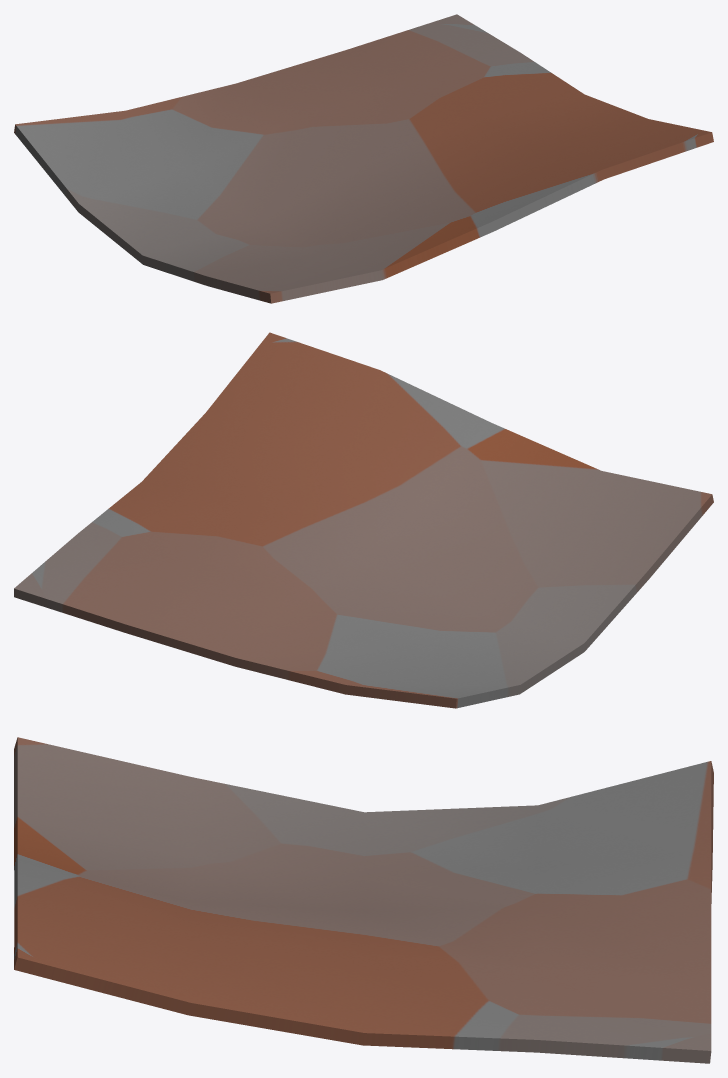
Rendered from MetalOxidado5.fbx.
The picture shows the model from 3 angles, top to bottom: view 1: azimuth 30°, elevation 25°; view 2: azimuth 150°, elevation 25°; view 3: azimuth 270°, elevation 25°; orthographic projection. The views are drawn at different scales.
Parts seen in each view (by area): view 1: Metal oxidado.004; view 2: Metal oxidado.004; view 3: Metal oxidado.004.
Boxes of the visible parts, box(x1,y1,x2,y2) form: Metal oxidado.004: box(14, 14, 713, 303); Metal oxidado.004: box(14, 332, 713, 708); Metal oxidado.004: box(14, 737, 713, 1063).
Size of the model in its own units: 100 by 25.54 by 101.
Materials: 1 (1 with a texture image).
